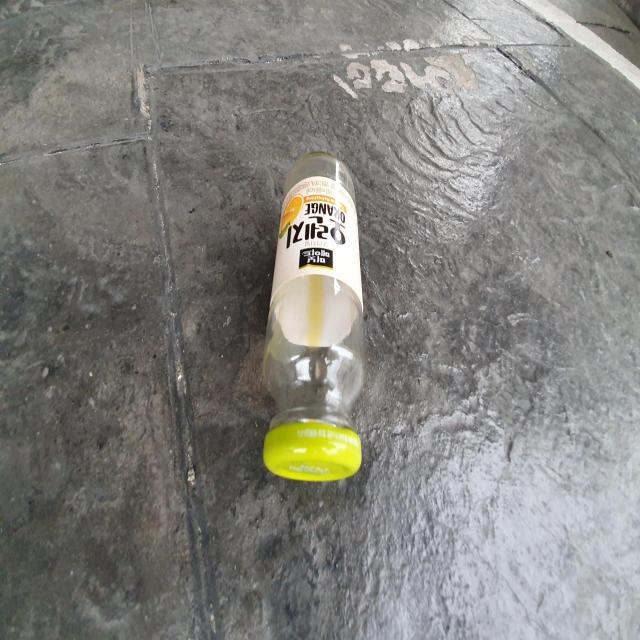glass: (263, 152, 365, 482)
